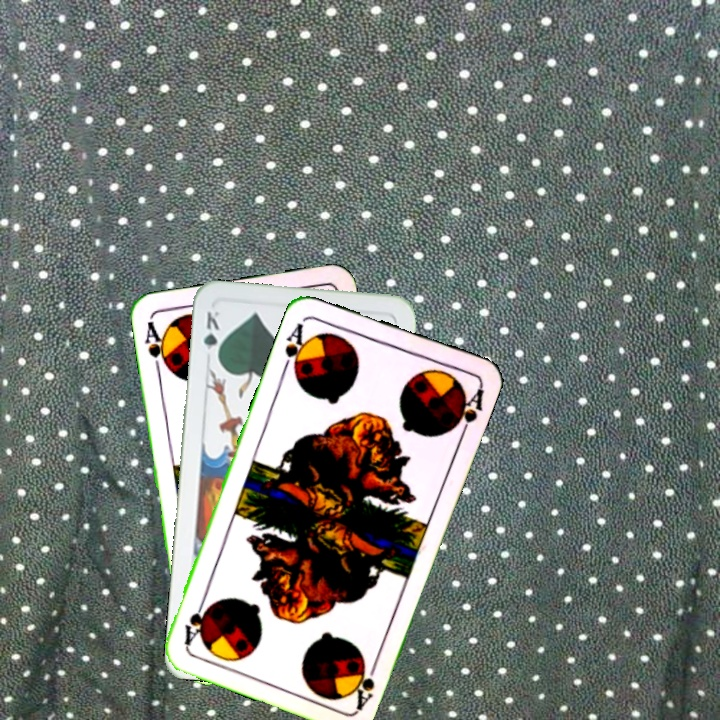GK: (200, 307, 222, 364)
SA: (279, 318, 313, 377), (348, 654, 381, 712), (141, 314, 172, 373)
